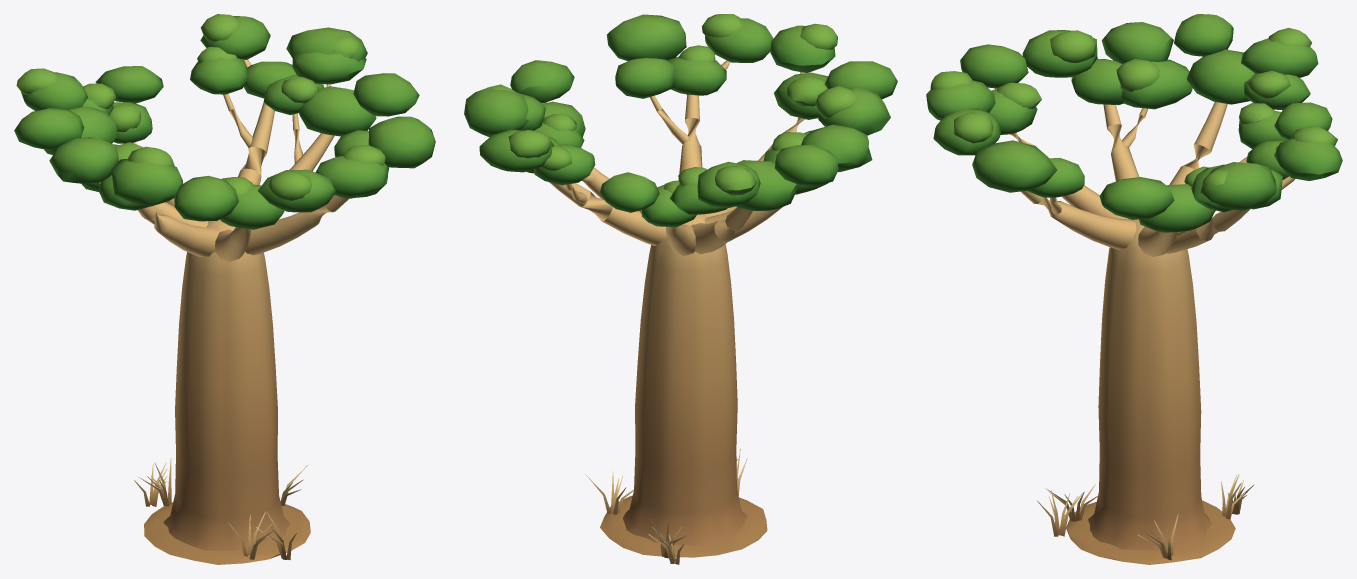
The model's file is BaobabTree.fbx.
The picture shows the model from 3 angles, left to right: view 1: azimuth 30°, elevation 25°; view 2: azimuth 150°, elevation 25°; view 3: azimuth 270°, elevation 25°; orthographic projection.
Parts seen in each view (by area): view 1: BaobabTree; view 2: BaobabTree; view 3: BaobabTree.
Boxes of the visible parts, x1,y1,x2,y2 form: BaobabTree: [14, 14, 435, 564]; BaobabTree: [464, 14, 897, 564]; BaobabTree: [926, 14, 1342, 564].
Bounding box in the file's own units: 4.91 × 5.74 × 4.92.
2 materials, 2 textured.
